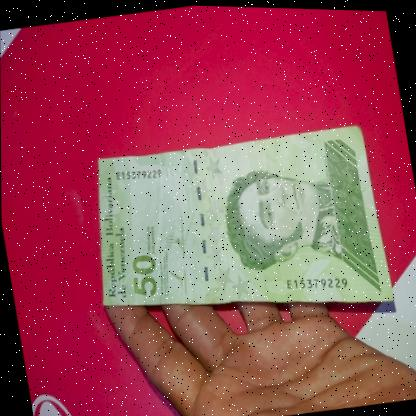fifty-front-vef: (77, 113, 394, 344)
